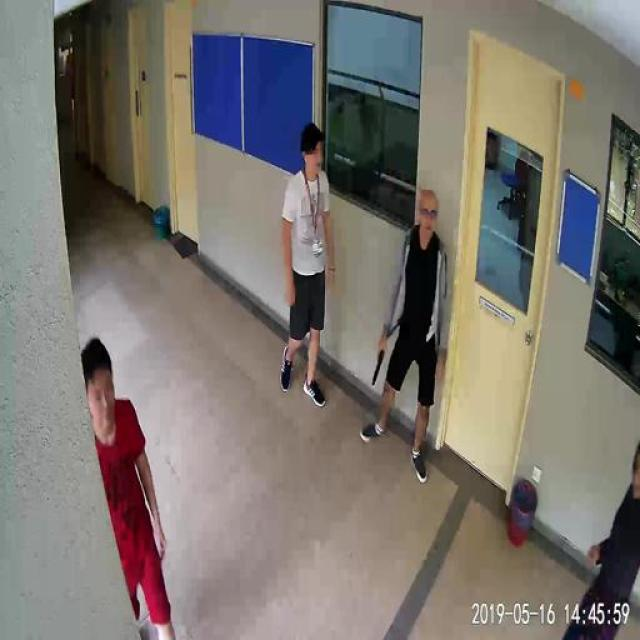Gun: (365, 340, 392, 394)
